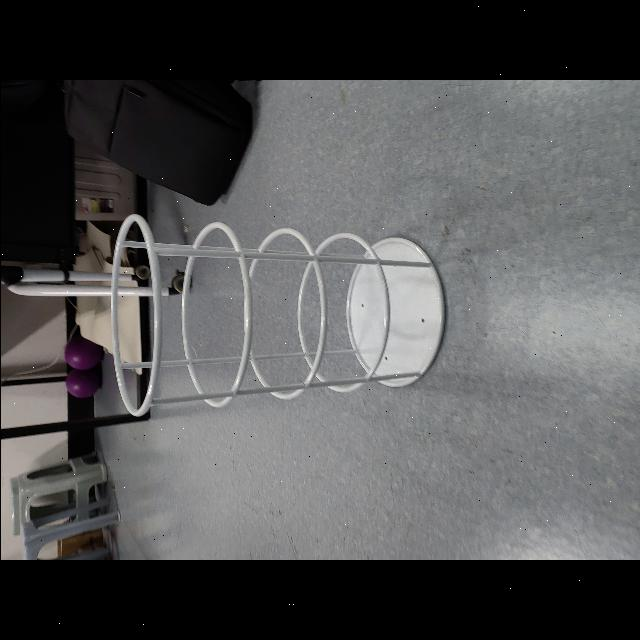S: (108, 211, 446, 417)
